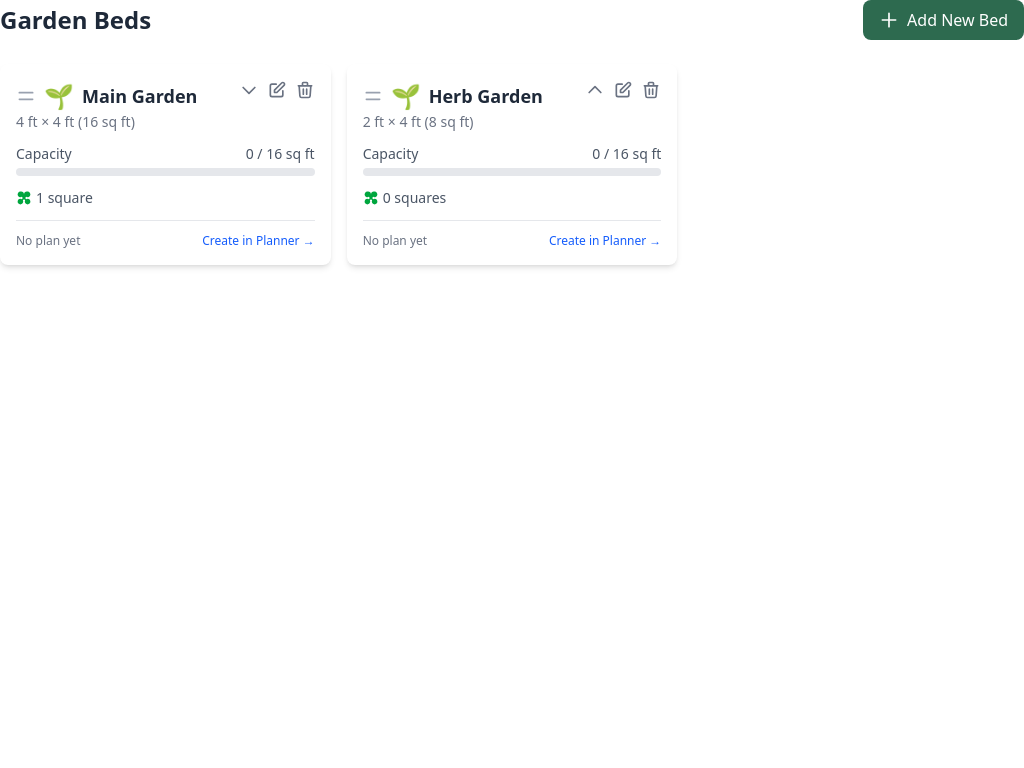
Test: BedManager › deleting beds › closes delete dialog when cancelled
Click the button named "Delete Main Garden": [305, 90] box left=295, top=80, right=315, bottom=100
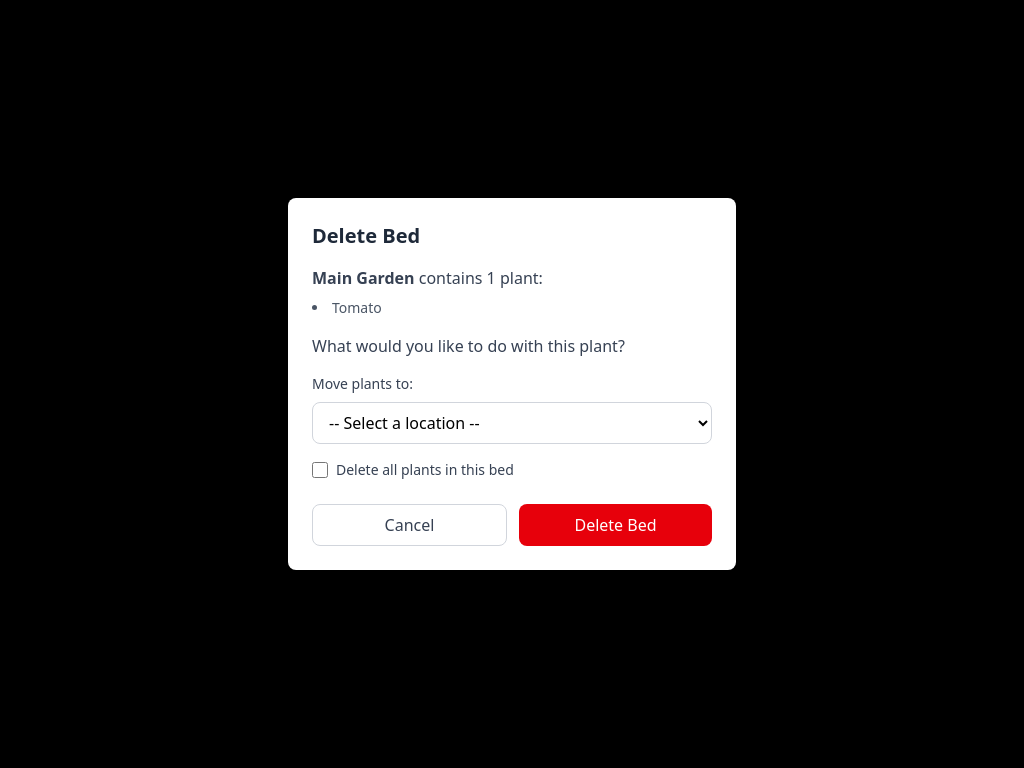
expect the heading "Delete Bed" is shown: met, box left=312, top=222, right=420, bottom=249
Click the button "Cancel": [410, 525] box left=312, top=504, right=507, bottom=546
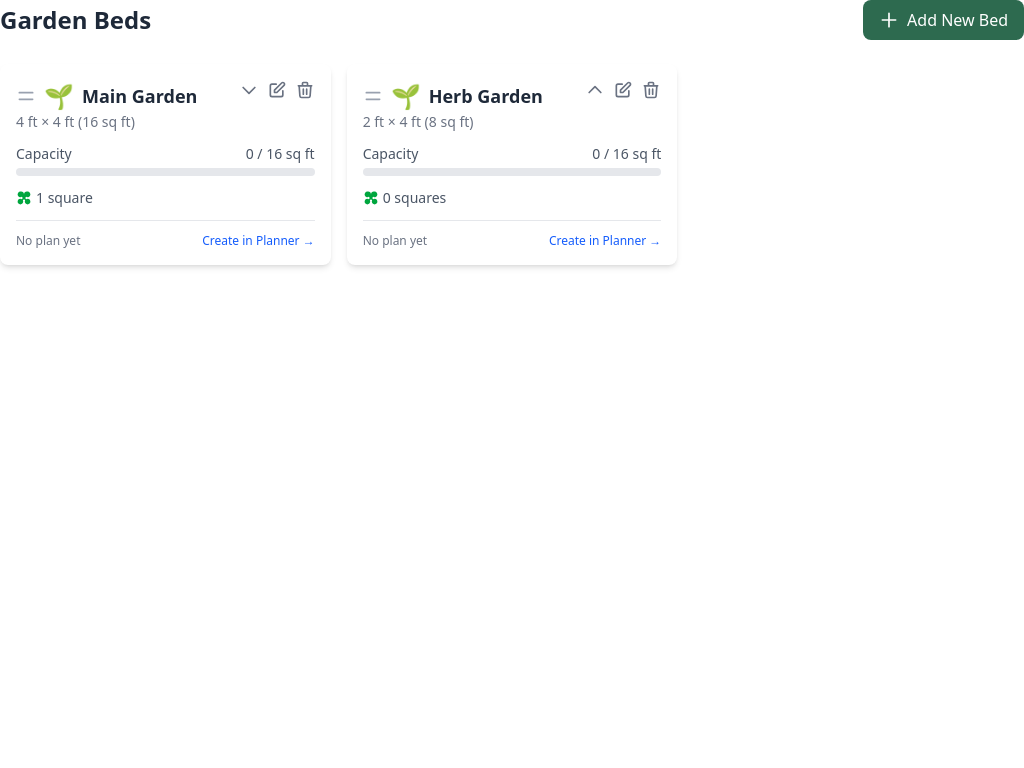
expect the heading "Delete Bed" is gone: met
